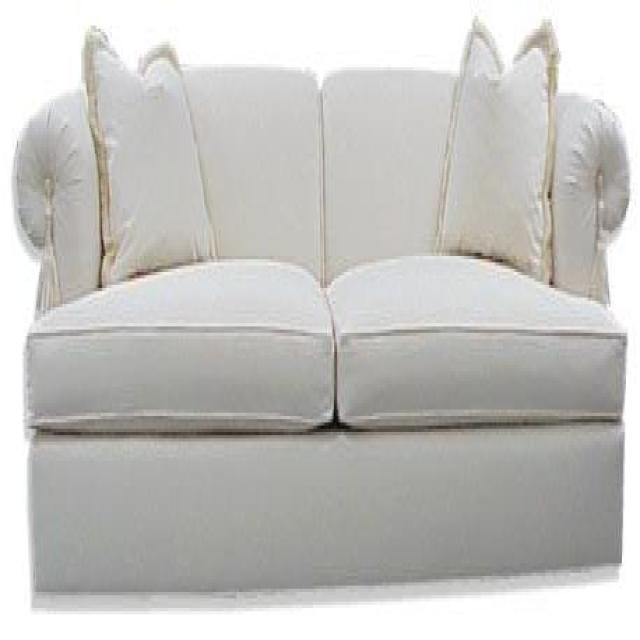sofa: (9, 30, 630, 604)
